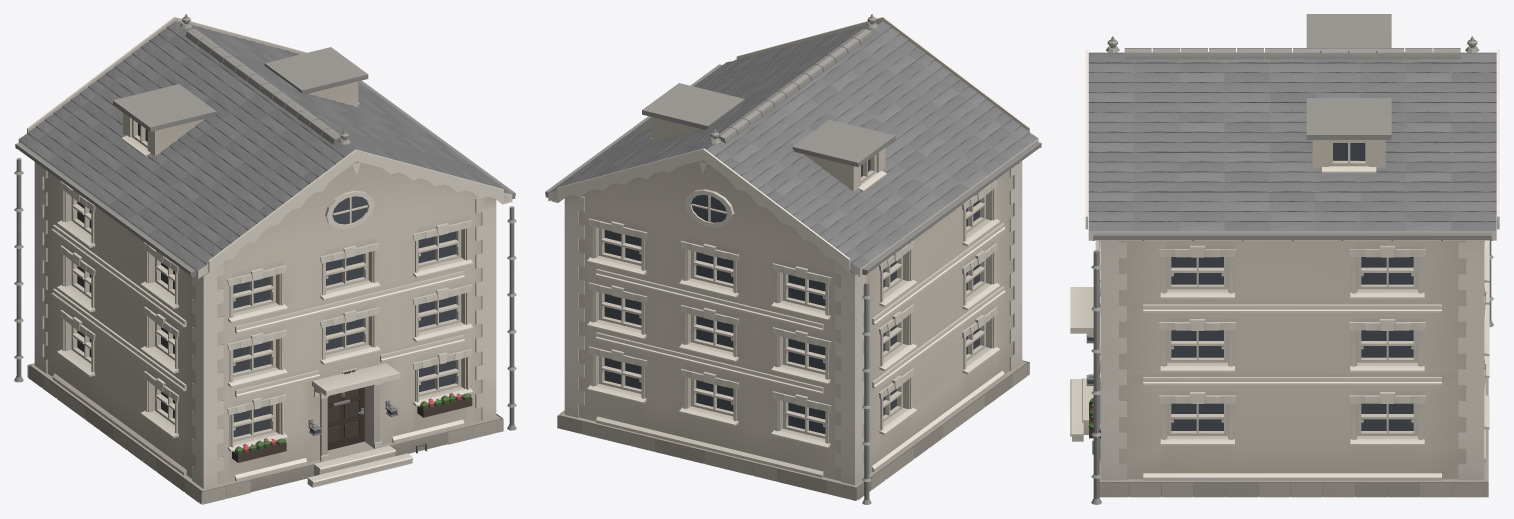
The model's file is building-lowrise-pitched-near.glb.
The picture shows the model from 3 angles, left to right: view 1: azimuth 30°, elevation 25°; view 2: azimuth 150°, elevation 25°; view 3: azimuth 270°, elevation 25°; orthographic projection. The views are drawn at different scales.
Parts seen in each view (by area): view 1: BuildingNear; view 2: BuildingNear; view 3: BuildingNear.
Part boxes in pixels (box(x1,y1,x2,y2)): BuildingNear: box(14, 14, 516, 504); BuildingNear: box(545, 14, 1041, 504); BuildingNear: box(1070, 14, 1499, 504).
Size of the model in its own units: 1.07 by 1.03 by 1.06.
